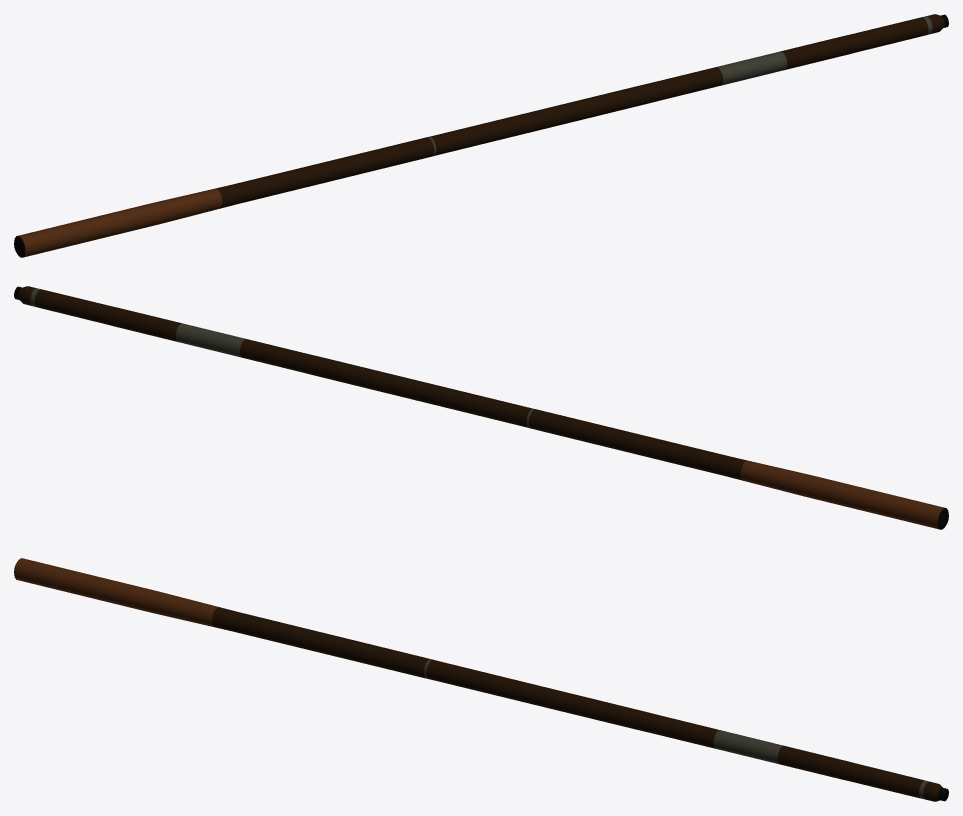
File: SM_RodPacked_Heavy.fbx
3 views of the same model, one above another, from view 1: azimuth 30°, elevation 25°; view 2: azimuth 150°, elevation 25°; view 3: azimuth 330°, elevation 25° (orthographic).
Visible parts, largest first — view 1: SM_RodPacked_Heavy; view 2: SM_RodPacked_Heavy; view 3: SM_RodPacked_Heavy.
Part boxes in pixels (bbox=[...]): SM_RodPacked_Heavy: bbox=[14, 14, 948, 257]; SM_RodPacked_Heavy: bbox=[14, 286, 948, 529]; SM_RodPacked_Heavy: bbox=[14, 558, 948, 801].
Size of the model in its own units: 140 by 2.98 by 2.91.
